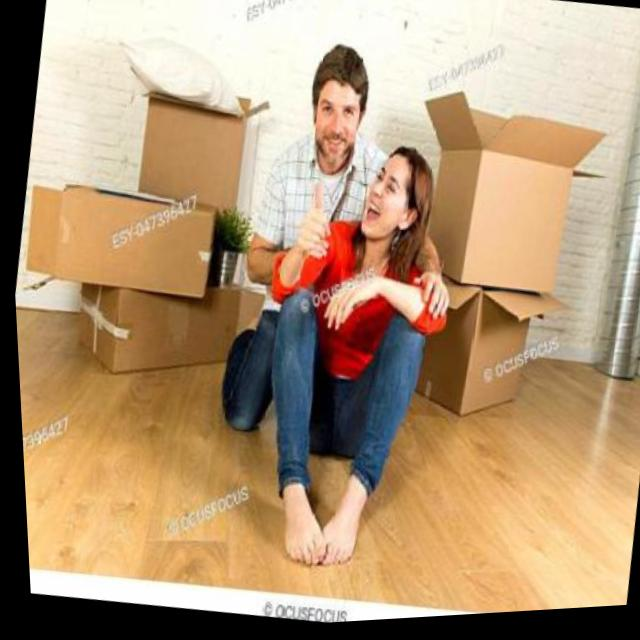box: (393, 73, 640, 327), (92, 7, 310, 239), (7, 156, 232, 337), (403, 258, 586, 451), (50, 250, 266, 399)
